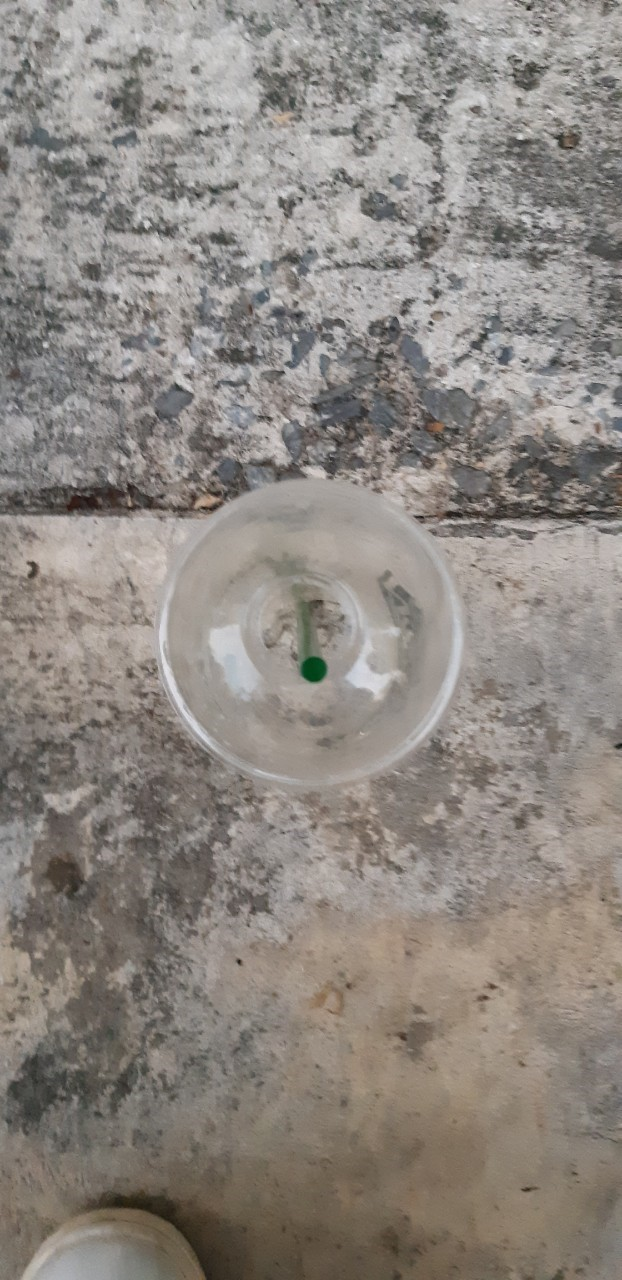PlasticCup: (145, 480, 463, 786)
